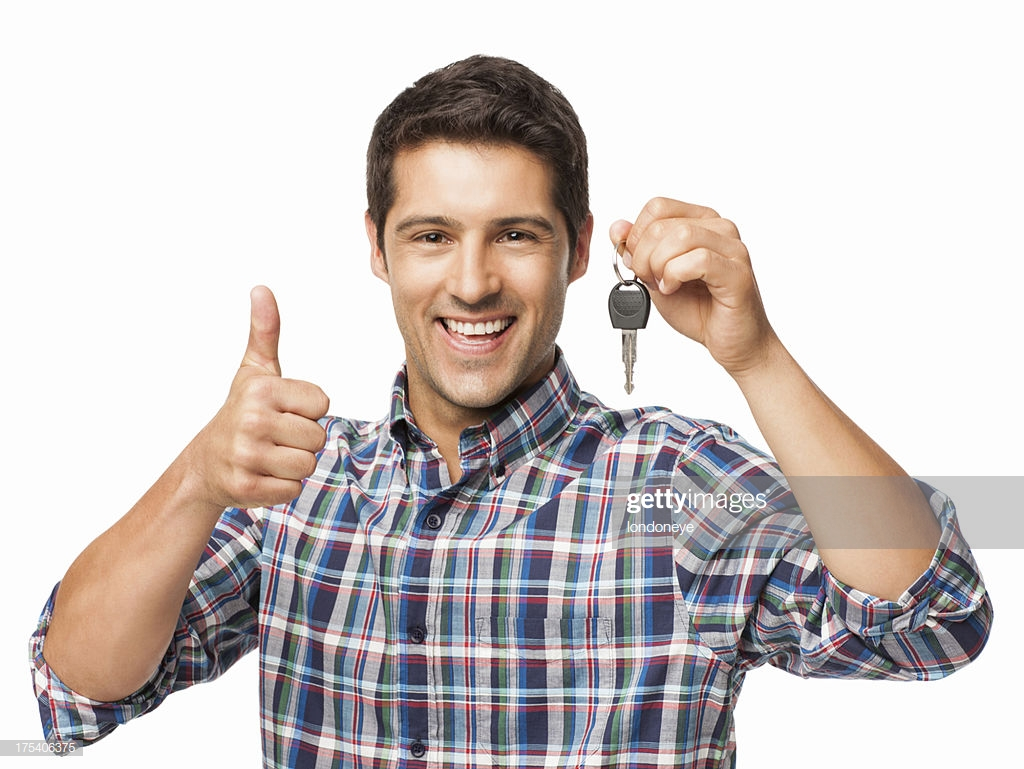thumbsup: (221, 283, 332, 509)
